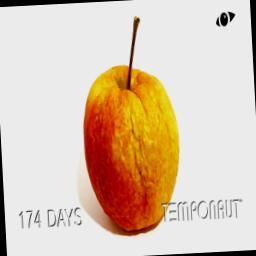Apple Overripe: (75, 0, 186, 237)
